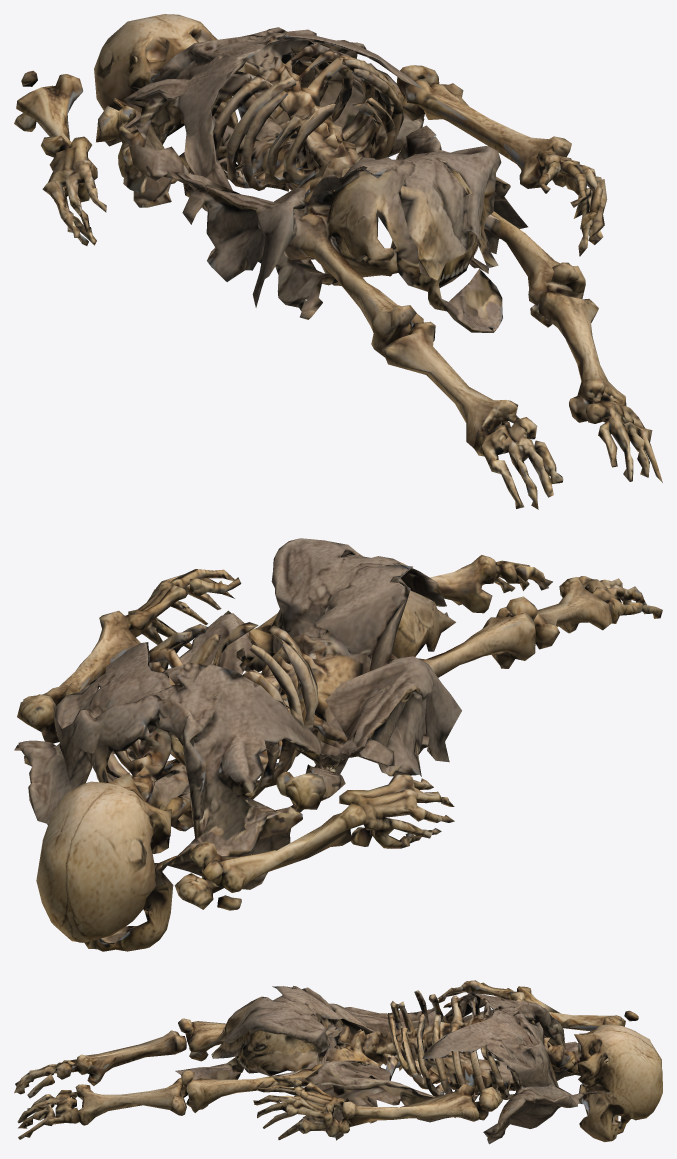
The model's file is Bones.fbx.
3 views of the same model, one above another, from view 1: azimuth 30°, elevation 25°; view 2: azimuth 150°, elevation 25°; view 3: azimuth 270°, elevation 25° (orthographic). The views are drawn at different scales.
Parts seen in each view (by area): view 1: Bones; view 2: Bones; view 3: Bones.
Boxes of the visible parts, box(x1,y1,x2,y2) form: Bones: box(14, 14, 662, 509); Bones: box(14, 538, 662, 951); Bones: box(14, 980, 662, 1144).
Bounding box in the file's own units: 0.5004 × 0.2338 × 0.9995.
Materials: 1 (1 with a texture image).
